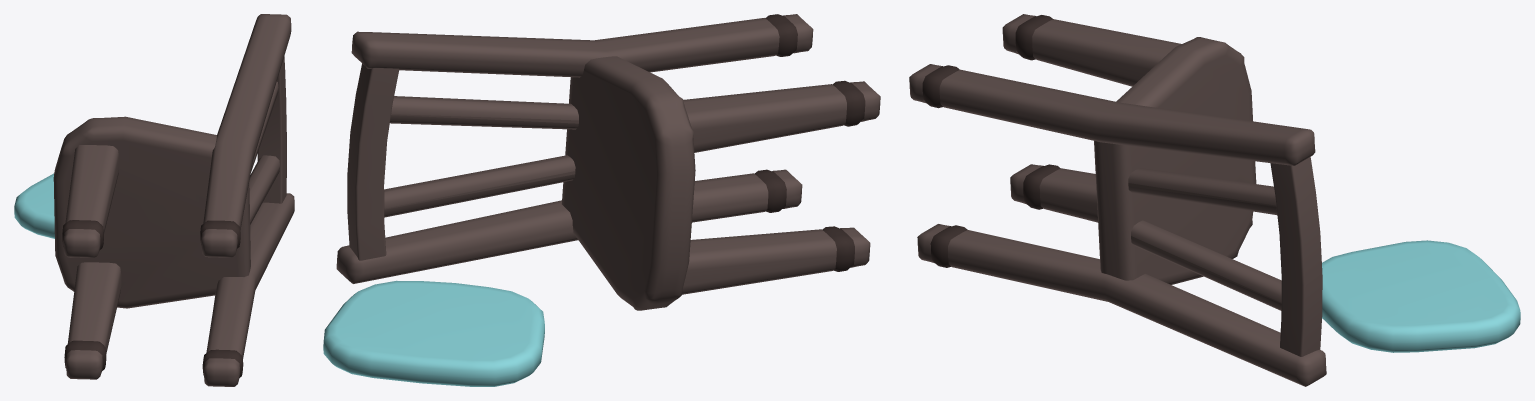
The model's file is Stuhl2.fbx.
The picture shows the model from 3 angles, left to right: view 1: azimuth 30°, elevation 25°; view 2: azimuth 150°, elevation 25°; view 3: azimuth 270°, elevation 25°; orthographic projection. The views are drawn at different scales.
Parts seen in each view (by area): view 1: Stuhl.001; view 2: Stuhl.001; view 3: Stuhl.001.
Part boxes in pixels (x1,y1,x2,y2): Stuhl.001: (14, 14, 294, 386); Stuhl.001: (323, 14, 880, 386); Stuhl.001: (909, 14, 1520, 386).
Size of the model in its own units: 108 by 62.56 by 140.
